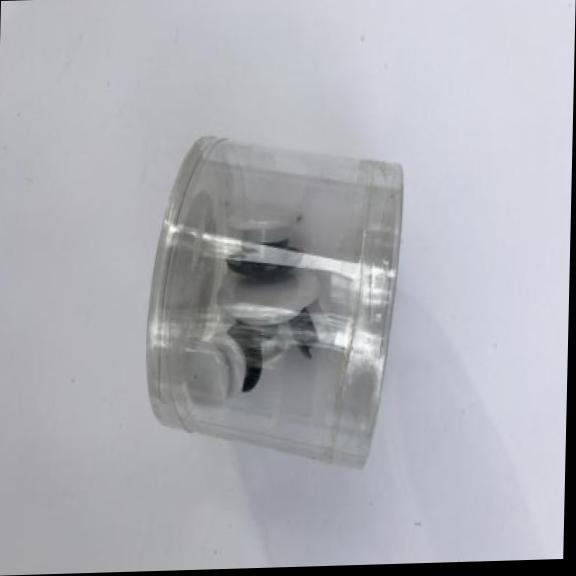Plastik: (140, 127, 408, 477)
